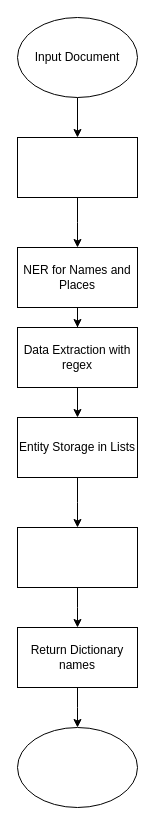
Image size: 155x825. Some labels were removed from this diagram. The shapes that lost their labels are listed below. From the top down, each one's centre as x and y in pixels, then its label:
At pixel 77 167: "Tokenization".
At pixel 77 557: "Removing duplicates".
At pixel 77 767: "End".
